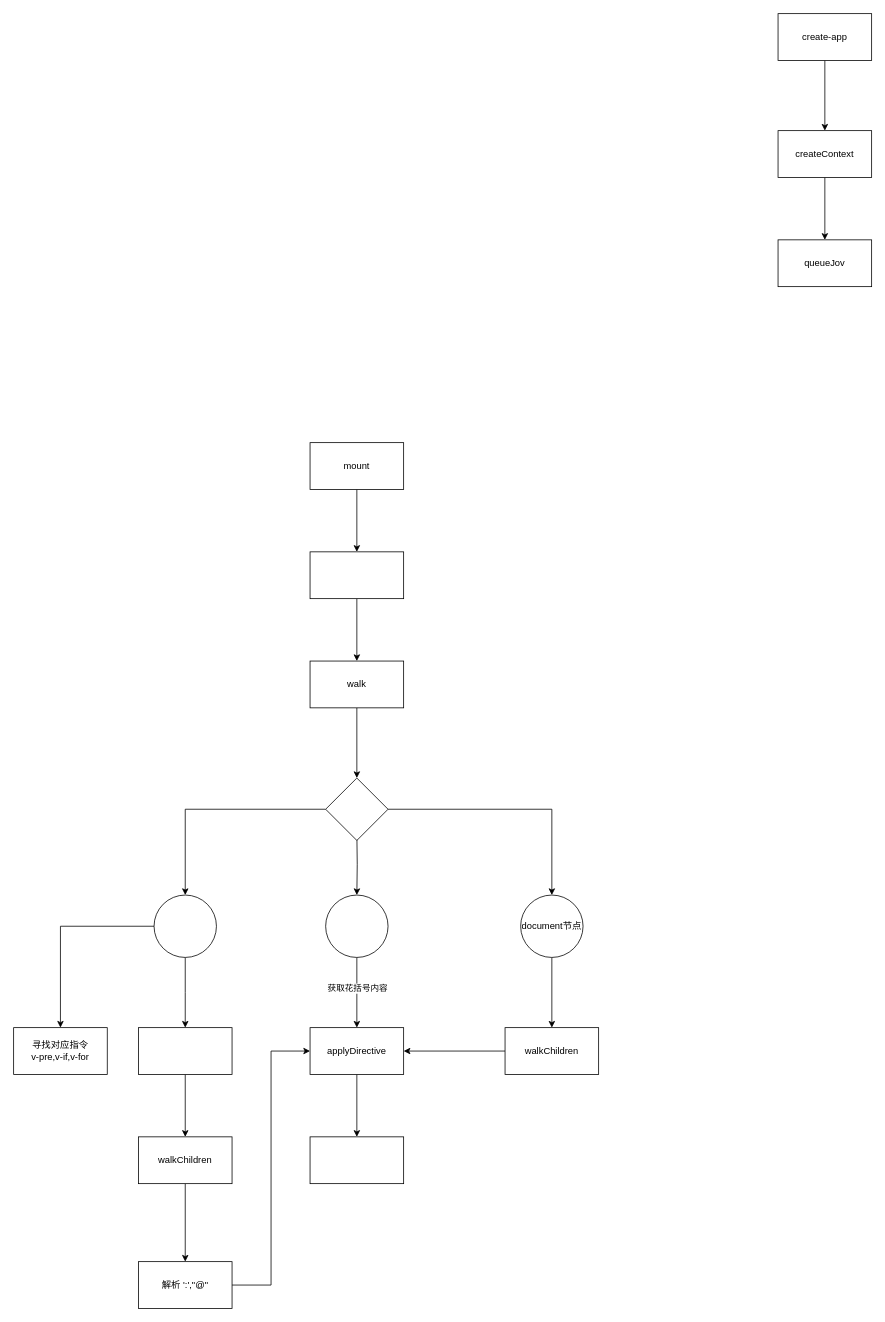
This 885x1322 diagram has some shape labels left out. The centre of each missing label's shape, as x and y in pixels:
evaluate执行fn: point 356,1160
new Blook: point 356,575
type: point 356,808
v-scope,v-once,ref: point 185,1050
元素节点: point 184,925
文本节点: point 356,925
